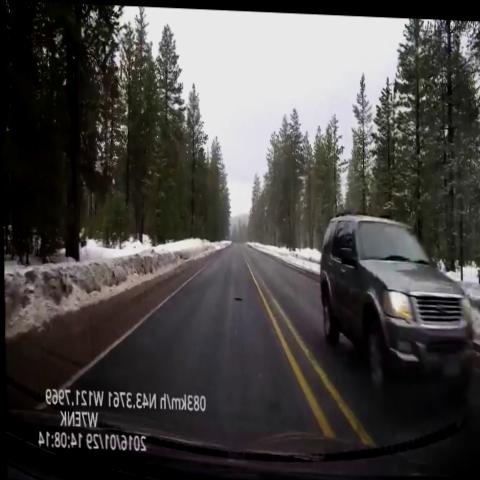pothole: (226, 286, 251, 312)
